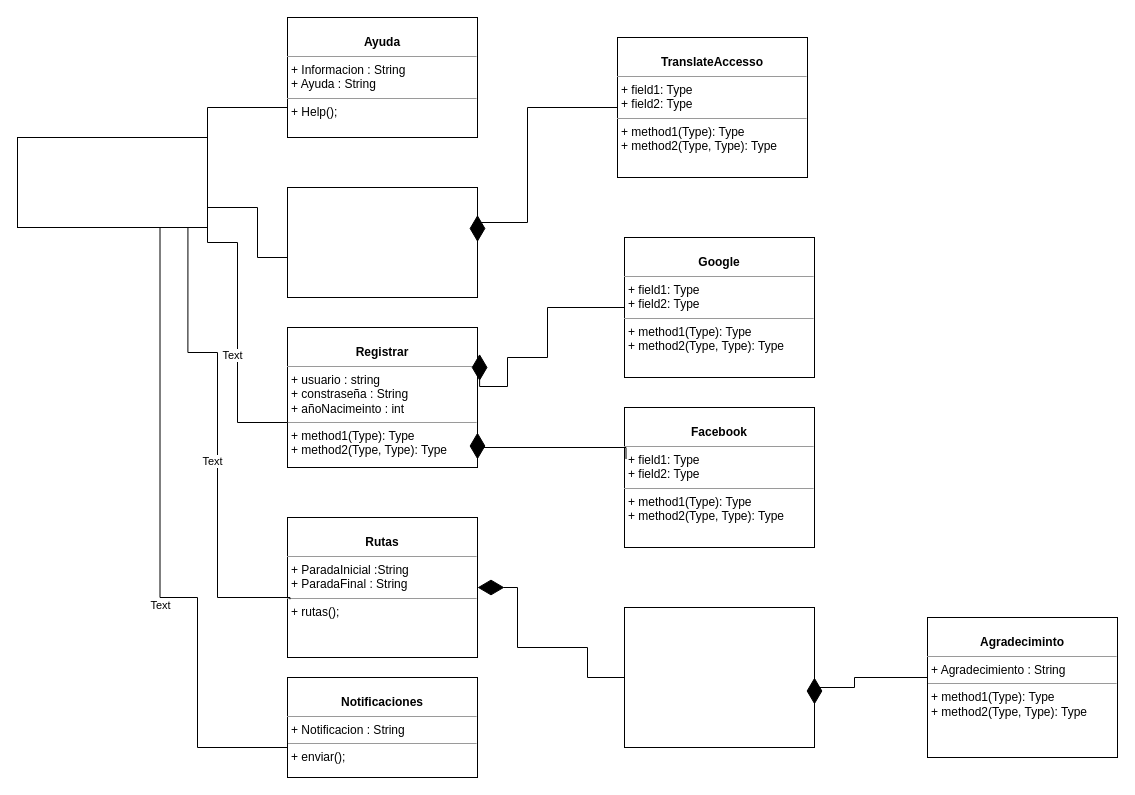
Image size: 1135x795. Some labels were removed from this diagram. Each missing label, with the centre of its shape:
Acceso + field1: Type + method1(Type): Type: the point at 382,242
Pagar + Trajeta : String + FormadePago : String + pago();: the point at 719,677
Translate: the point at 112,182
